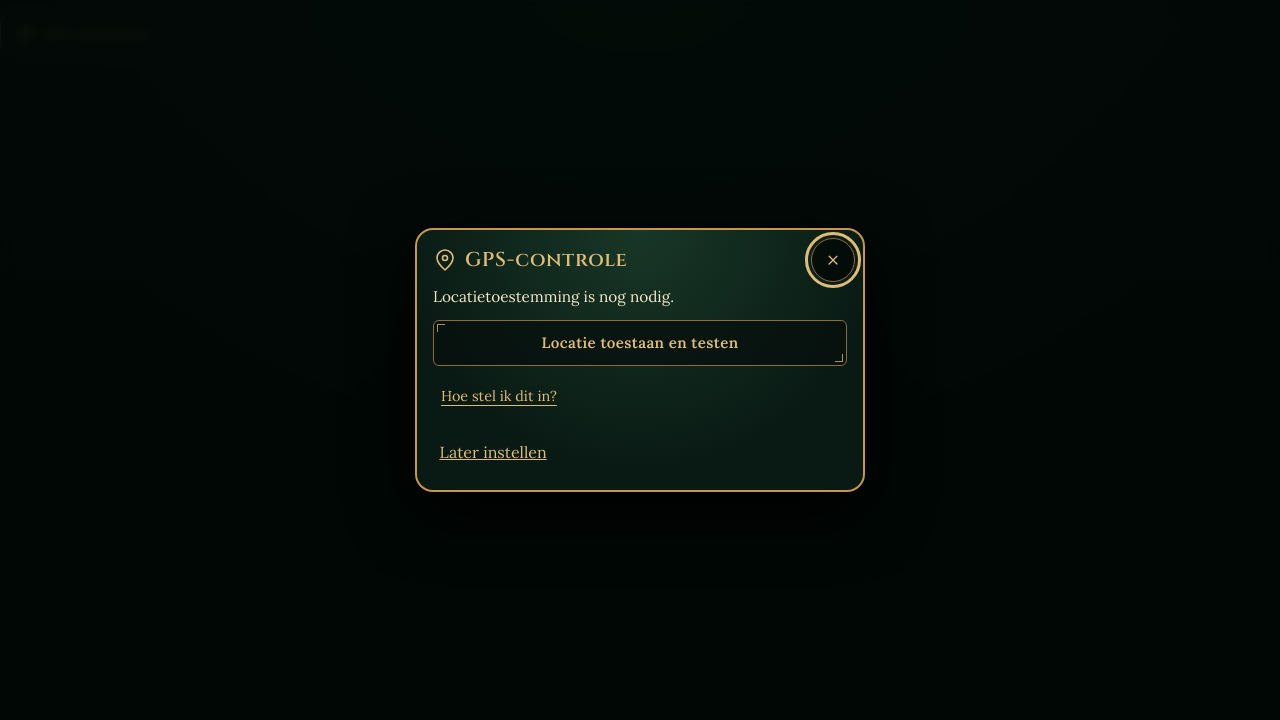
Scenario: StartLocationCheck modal › vraagt na expliciete klik om locatie en toont onnauwkeurige GPS
Expected: the dialog with class "start-location-check" shows "toestemming", top-left (433, 287), bottom-right (674, 306)
Click the button "Locatie toestaan en testen".
click(640, 343)  # box top-left (433, 320), bottom-right (847, 366)
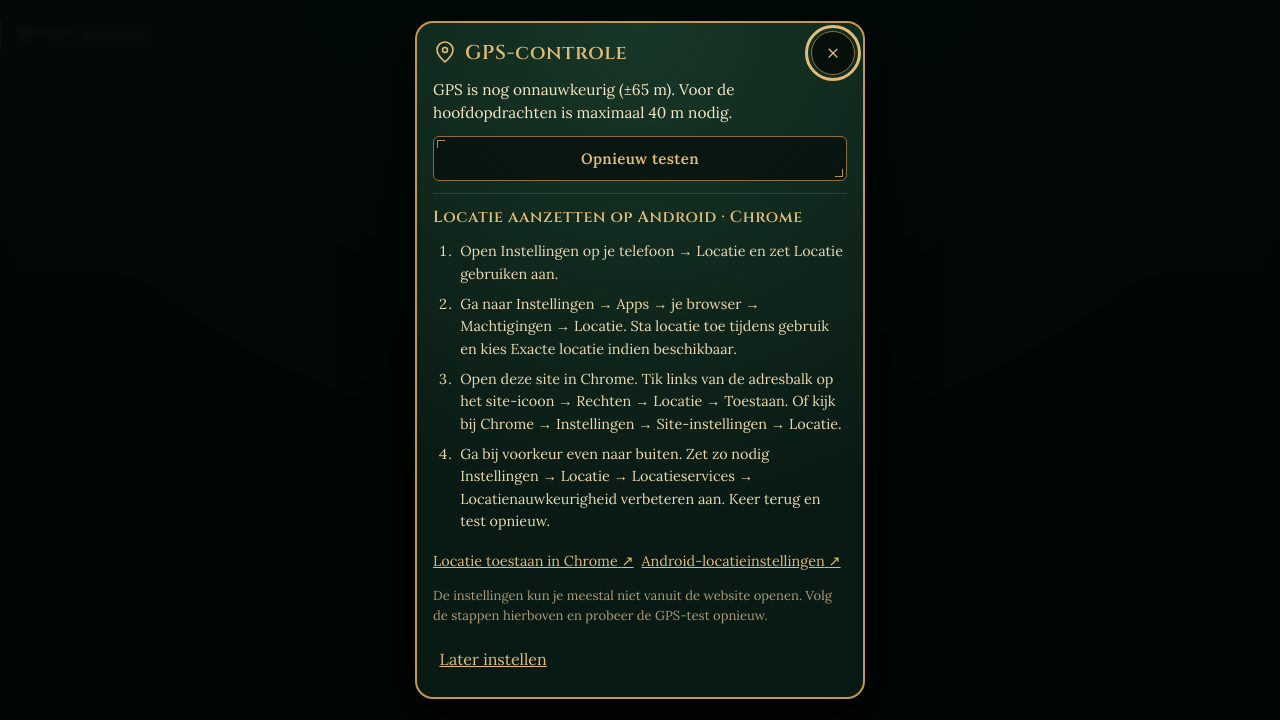
Expected: the dialog with class "start-location-check" shows "onnauwkeurig", top-left (433, 80), bottom-right (735, 122)
Expected: the dialog with class "start-location-check" shows "40 m", top-left (433, 80), bottom-right (735, 122)
